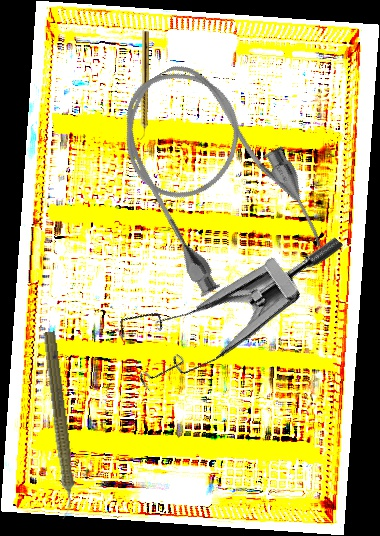Cannula: (94, 39, 335, 310)
Handpiece: (36, 330, 81, 520), (138, 30, 150, 141)
Speculum: (98, 168, 346, 424)
